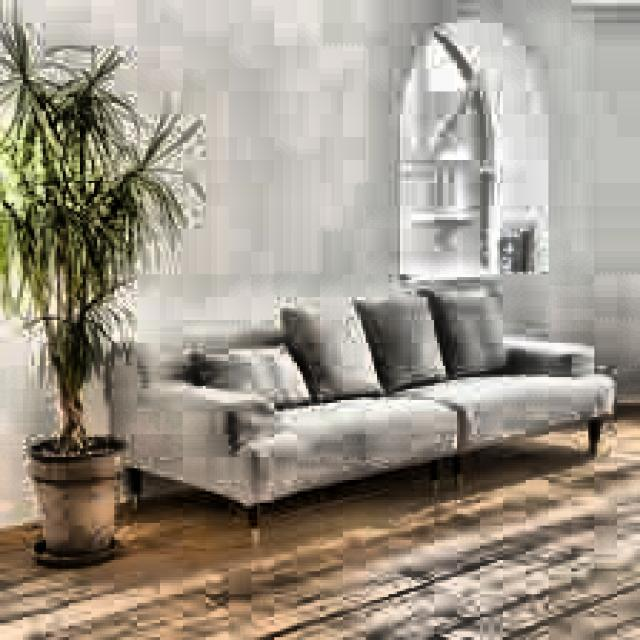sofa: (105, 297, 626, 566)
